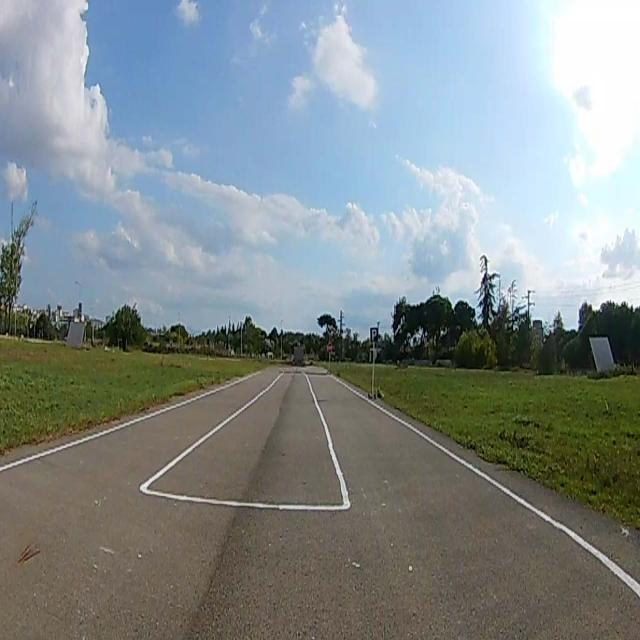park: (370, 329, 378, 342)
